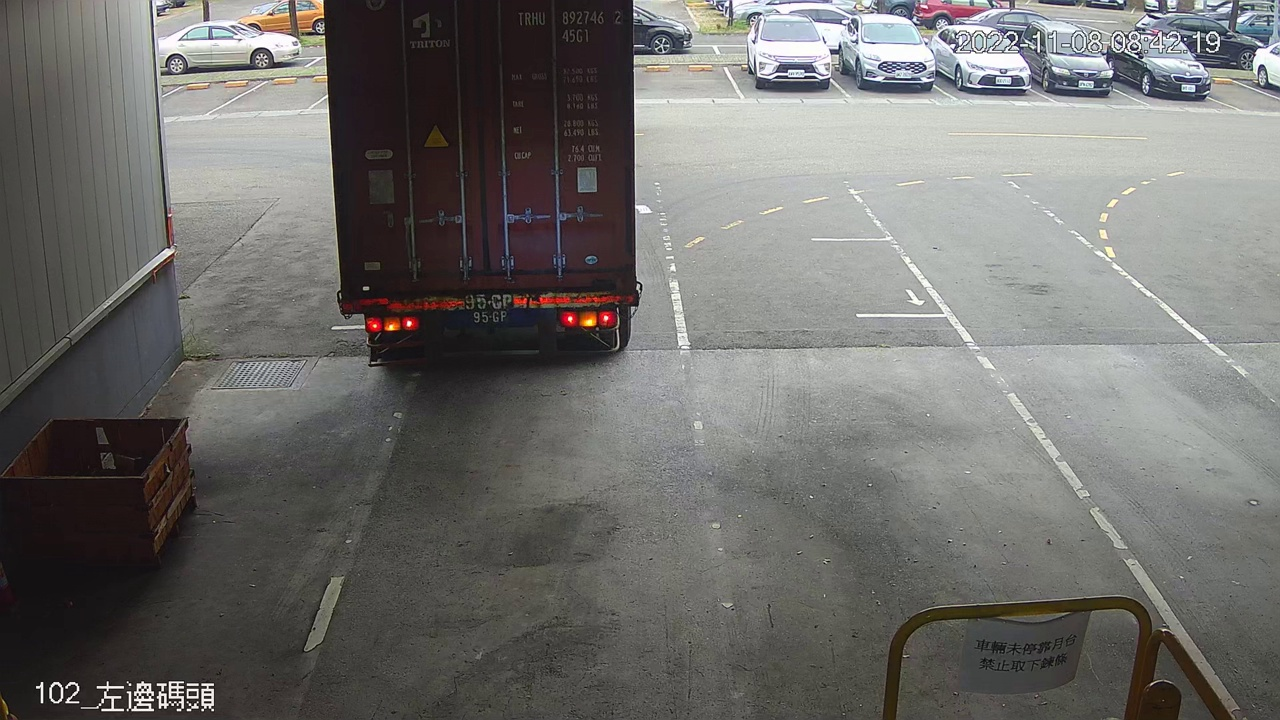container: (510, 4, 626, 46)
